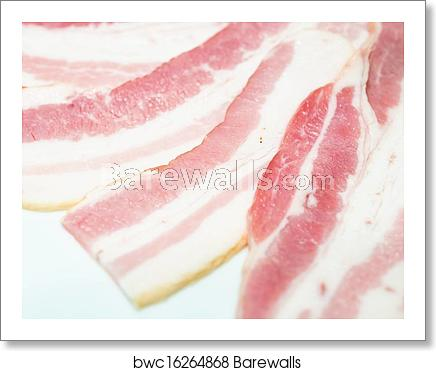bacon: (30, 29, 369, 201)
